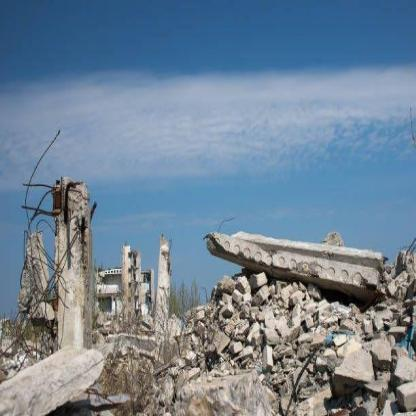rebar: (0, 229, 80, 375), (19, 127, 62, 289), (281, 342, 322, 415), (35, 216, 55, 235), (216, 214, 237, 232), (166, 232, 174, 260), (406, 233, 415, 257)
